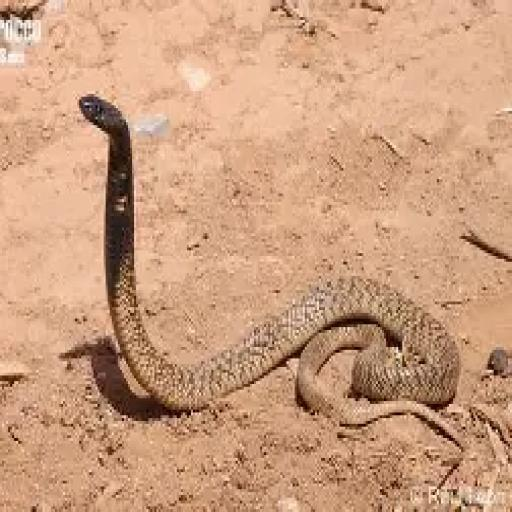snake: (80, 94, 461, 409)
